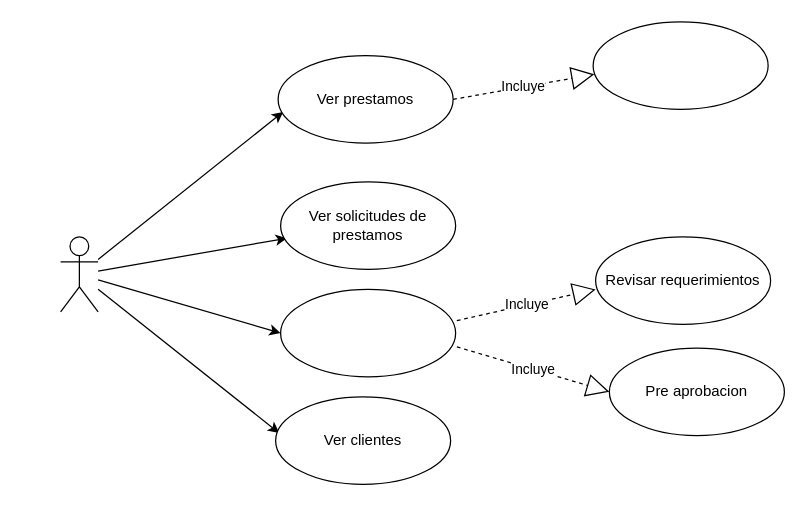
Some shapes in this 806 by 506 pixel diagram are drawn without their labels. Here are the shapes that lost their labels. From the top down, the centre of each, then its label:
(x=680, y=65): Ver detalle de un prestamo
(x=78, y=274): Asesor de credito
(x=367, y=332): Gestionar una solicitud de prestamo
